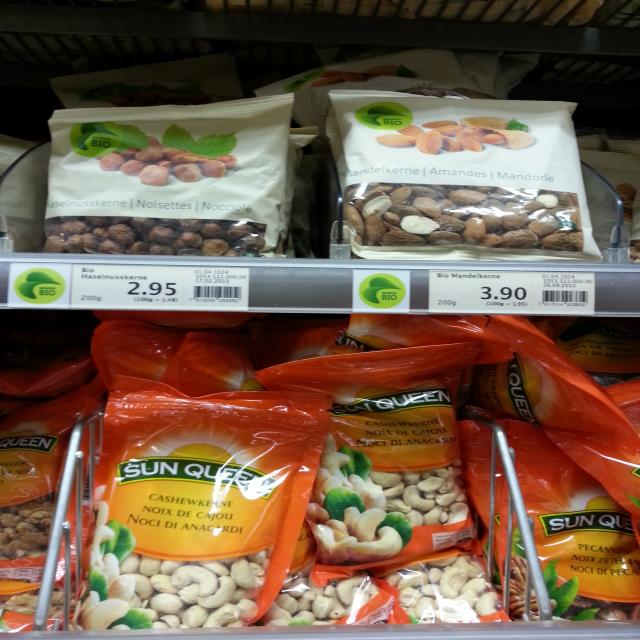DriedFruitsAndNuts: (69, 378, 324, 634), (251, 342, 473, 564), (328, 89, 605, 263), (45, 91, 292, 262)
